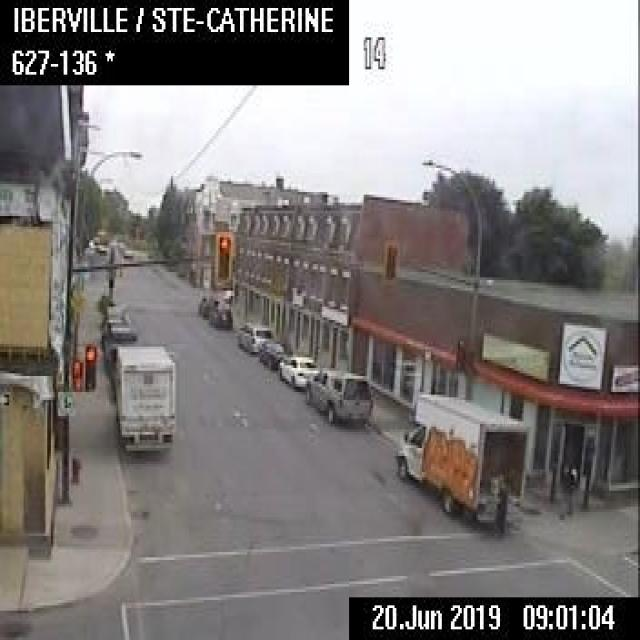pedestrian: (493, 485, 507, 536)
vehicle: (391, 390, 527, 526), (114, 341, 174, 453), (304, 364, 373, 424), (277, 352, 319, 387), (100, 322, 136, 360), (236, 320, 272, 351), (258, 337, 292, 367), (101, 302, 131, 327), (208, 299, 232, 327), (197, 293, 218, 316)
